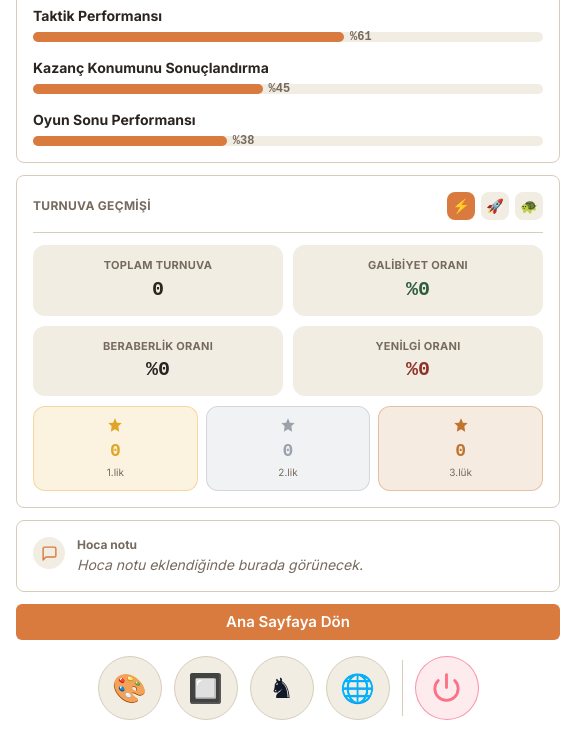
Profil sayfası — alt ayar kartları (Tema/Tahta Rengi/Taş/Dil/Çıkış) › "Taş Görünümünü Değiştir" taş setlerini gösterir; aynı anda sadece bir panel açık olur
(page scrolled)
Expected: the button named "Taş Görünümünü Değiştir" is shown, [250,656,314,720]
Click the button named "Tahta Renklerini Değiştir": (206, 688) [174,656,238,720]
(page scrolled)
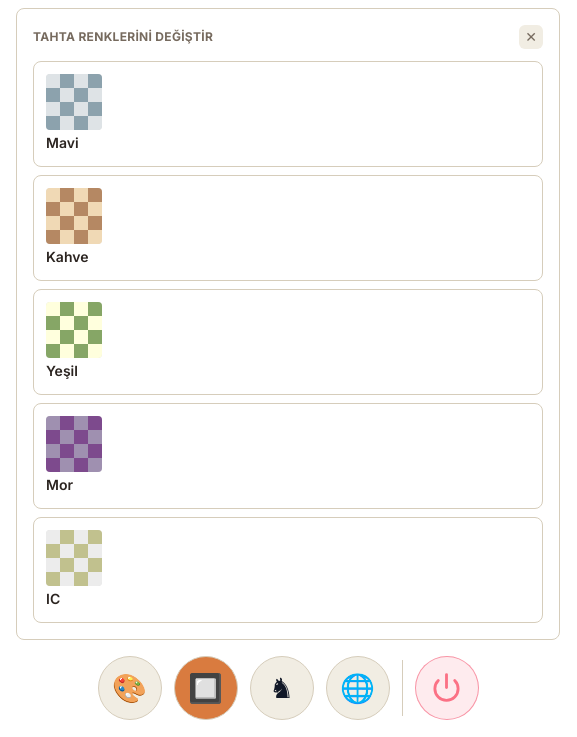
Expected: the text "Mavi" is shown, [46,134,79,151]
Click the button named "Taş Görünümünü Değiştir": (282, 688) [250,656,314,720]
(page scrolled)
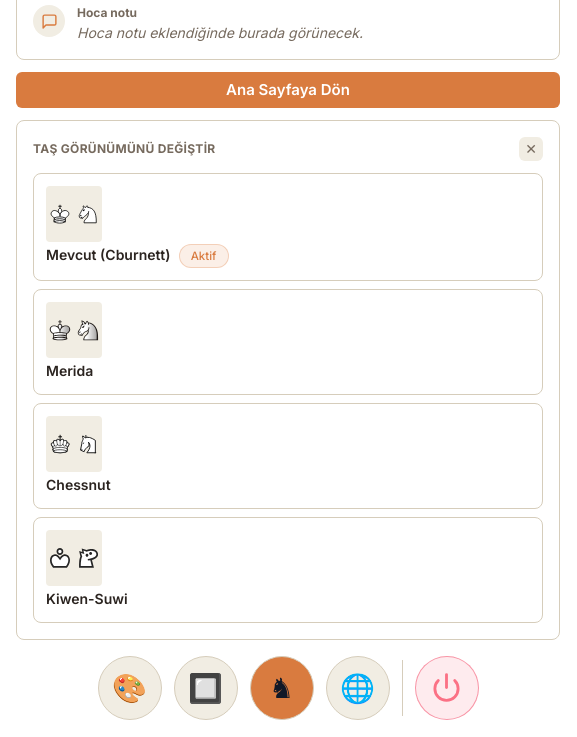
Expected: the button "Mavi" is gone
Expected: the text "Mevcut (Cburnett)" is shown, [46,246,170,263]
Expected: the text "Merida" is shown, [46,362,93,379]
